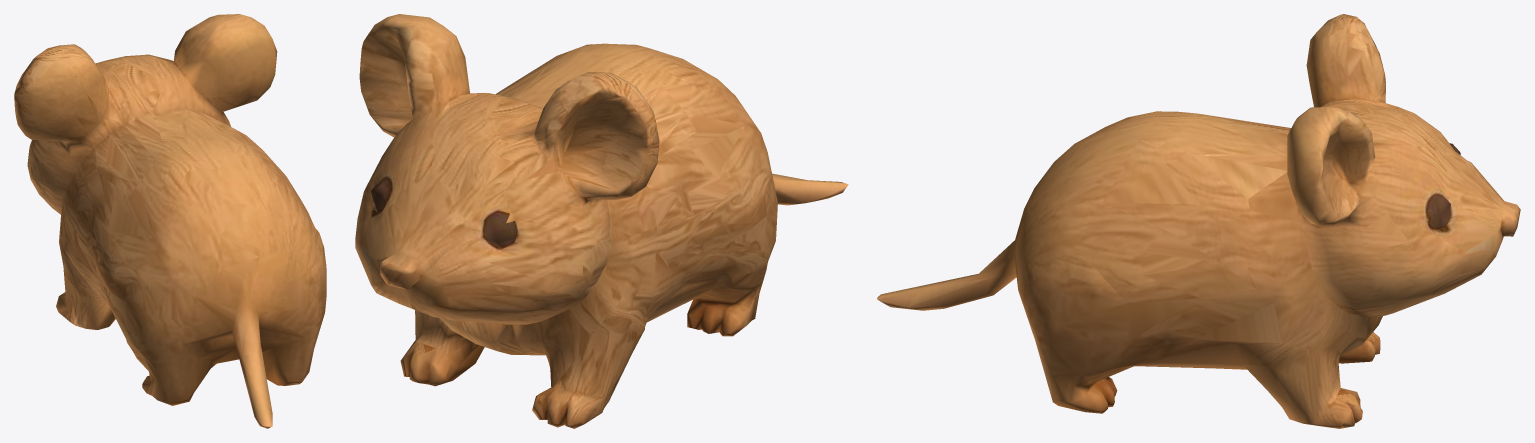
File: rat.glb
3 renders of one model, left to right at view 1: azimuth 30°, elevation 25°; view 2: azimuth 150°, elevation 25°; view 3: azimuth 270°, elevation 25°, orthographic. The views are drawn at different scales.
Visible parts, largest first — view 1: animal_rat; view 2: animal_rat; view 3: animal_rat.
Boxes of the visible parts, x1=… form: animal_rat: x1=14, y1=14, x2=326, y2=428; animal_rat: x1=355, y1=14, x2=848, y2=428; animal_rat: x1=877, y1=14, x2=1520, y2=428.
Size of the model in its own units: 0.03 by 0.0319 by 0.058.
Materials: 1 (1 with a texture image).
